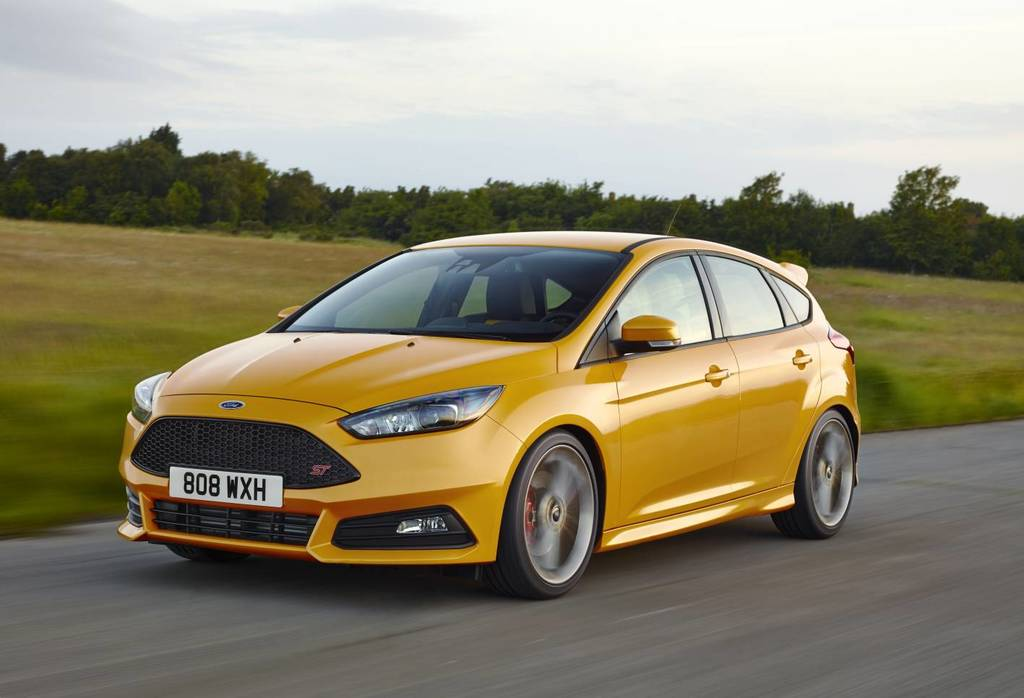Car: (104, 216, 865, 595)
